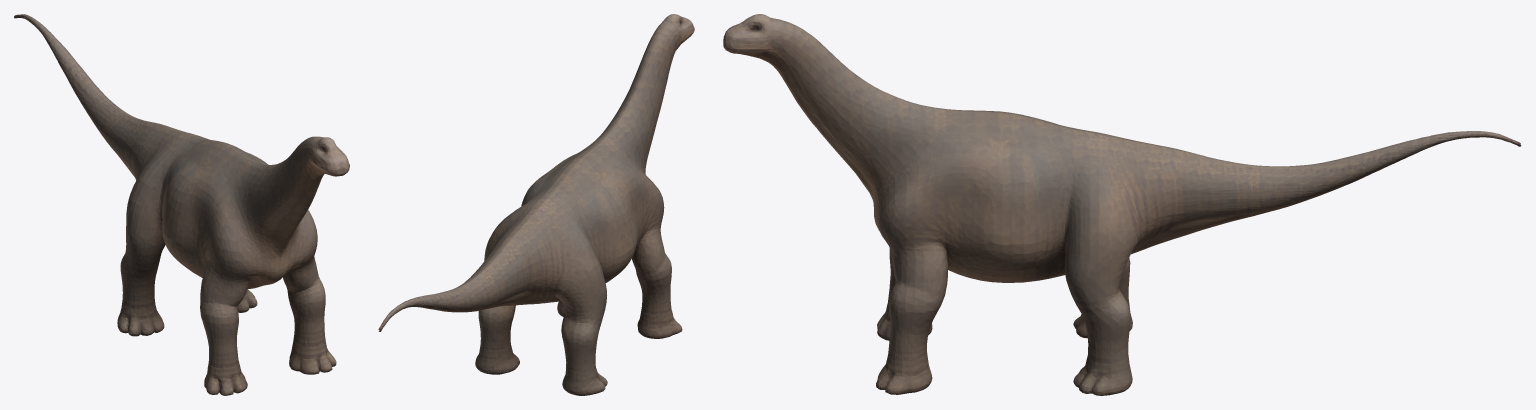
3 views of the same model, side by side, from view 1: azimuth 30°, elevation 25°; view 2: azimuth 150°, elevation 25°; view 3: azimuth 270°, elevation 25° (orthographic). The views are drawn at different scales.
Visible parts, largest first — view 1: world; view 2: world; view 3: world.
Boxes of the visible parts, x1,y1,x2,y2 form: world: [14, 14, 349, 395]; world: [378, 14, 694, 395]; world: [723, 14, 1521, 395].
Bounding box in the file's own units: 6.14 × 12.35 × 26.
1 material, 1 textured.
